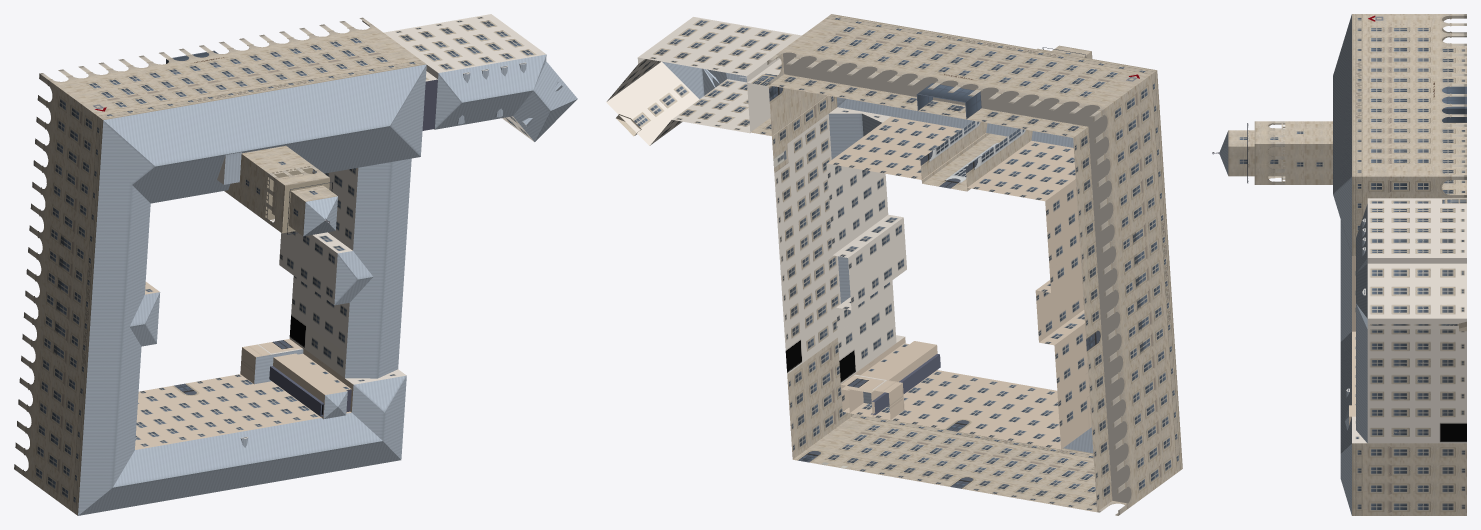
File: DEU_CY0225_KARLSRUHE_VOLKSWOHNUNG_S.OBJ
3 renders of one model, left to right at view 1: azimuth 30°, elevation 25°; view 2: azimuth 150°, elevation 25°; view 3: azimuth 270°, elevation 25°, orthographic. The views are drawn at different scales.
Visible parts, largest first — view 1: S; view 2: S; view 3: S.
Boxes of the visible parts, x1,y1,x2,y2 form: S: [14, 14, 577, 515]; S: [606, 14, 1182, 515]; S: [1212, 14, 1466, 515].
Bounding box in the file's own units: 91.87 × 71.28 × 44.49.
Materials: 1 (1 with a texture image).
